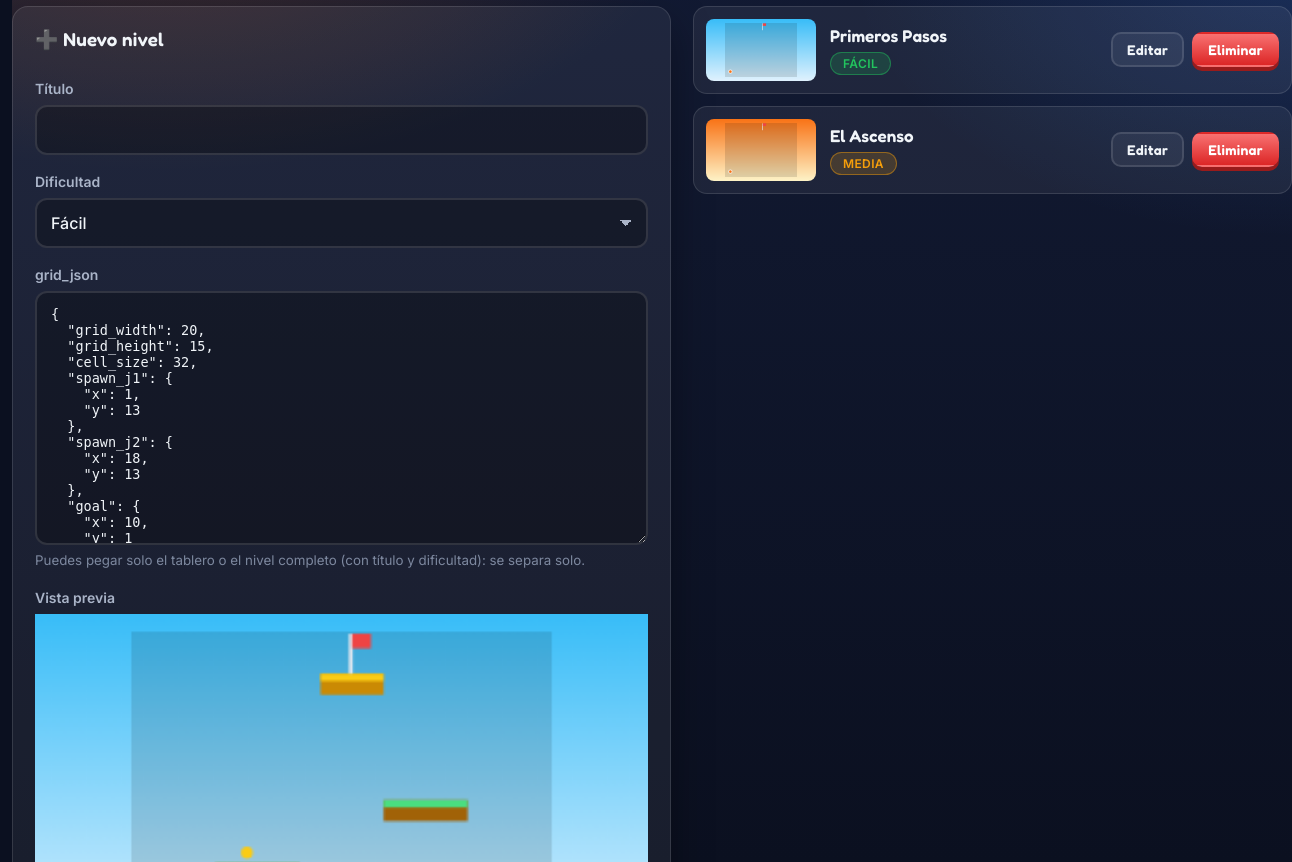
Test: LevelsAdminPanel › edita un nivel: carga el formulario y guarda con PUT
Expected: the text "El Ascenso" is shown, [830, 125, 914, 146]
Click the button "Editar" in the row of "El Ascenso". click: [1148, 150]
box: [1111, 132, 1184, 167]
(page scrolled)
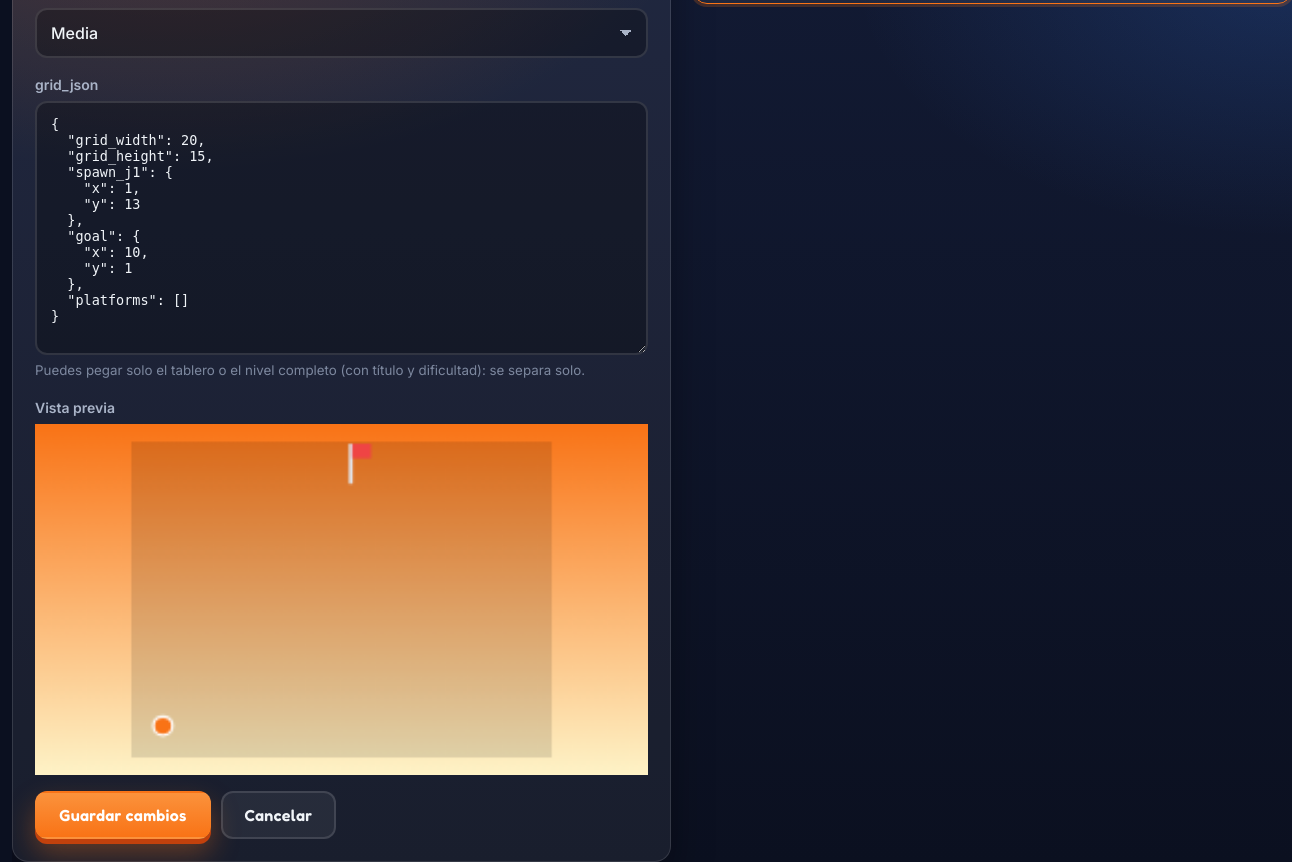
Click the button "Guardar cambios". click: [123, 815]
box: [35, 791, 211, 839]
(page scrolled)
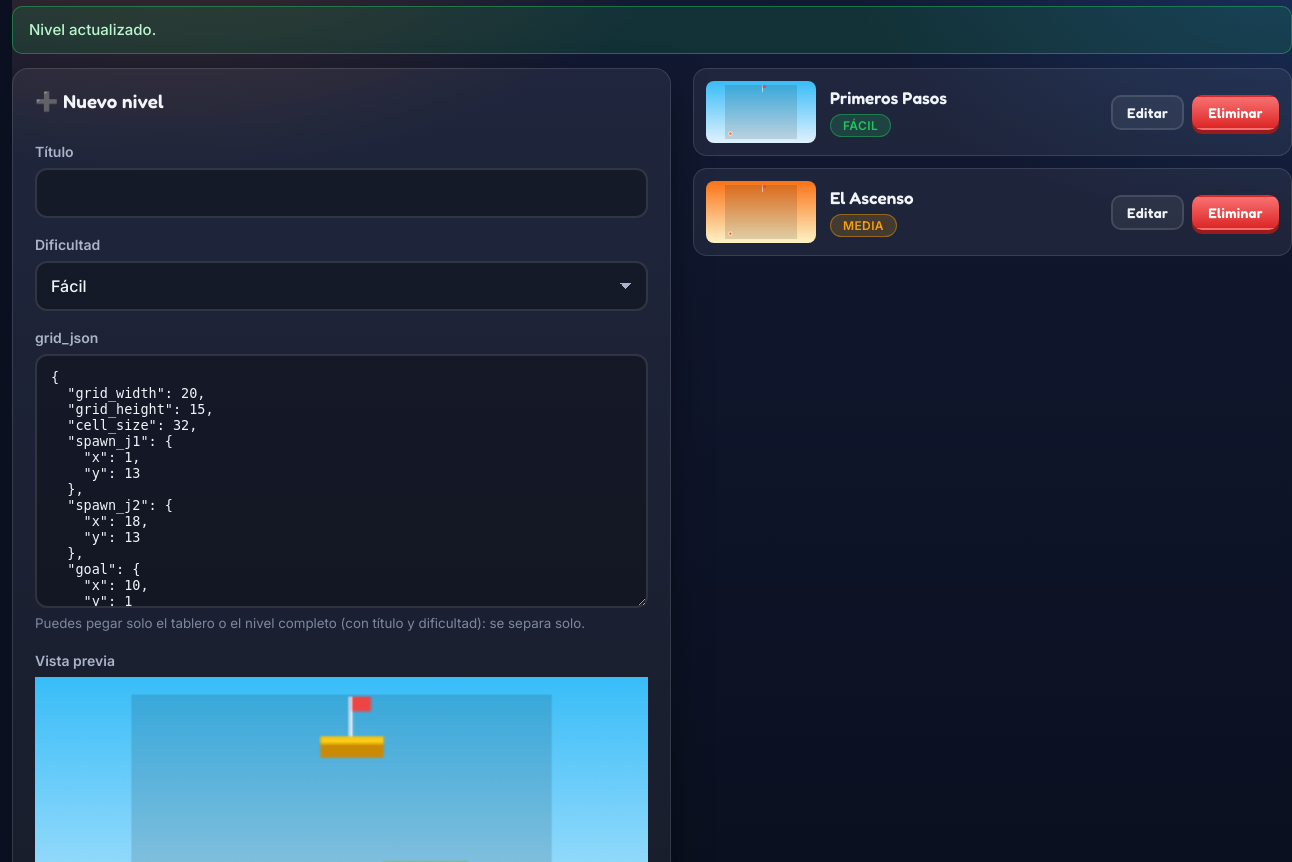
Result: the message reads "Nivel actualizado." at [29, 20, 156, 39]
